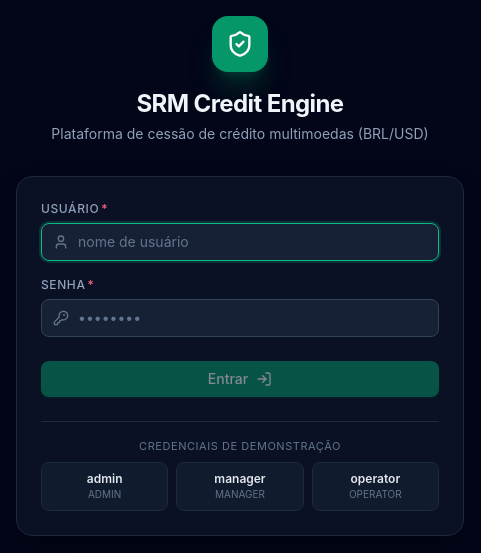
Scenario: LoginPage › preenche credenciais ao clicar em um usuário de demonstração
Click the button "manager MANAGER" at (240, 487), box [176,462,304,511]
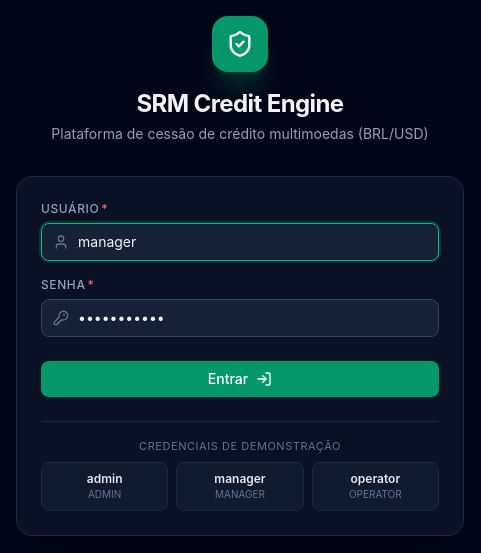
Result: the field labelled "Usuário*" holds "manager" at [41,223,439,261]
Result: the password field labelled "Senha*" holds "Manager@123" at [41,299,439,337]
